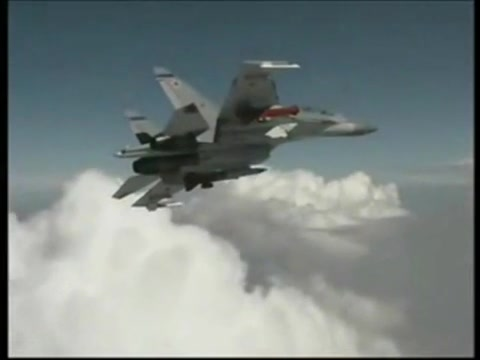aeroplane: (112, 59, 380, 213)
